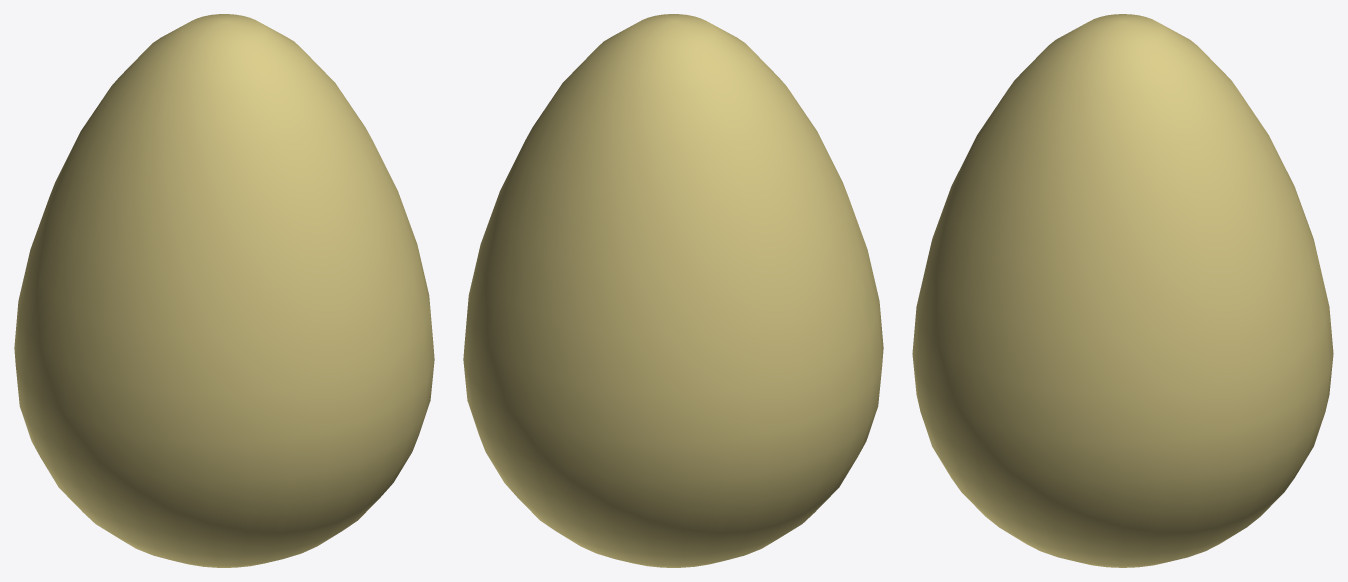
Rendered from badegg.glb.
3 renders of one model, left to right at view 1: azimuth 30°, elevation 25°; view 2: azimuth 150°, elevation 25°; view 3: azimuth 270°, elevation 25°, orthographic.
Parts seen in each view (by area): view 1: egg; view 2: egg; view 3: egg.
Part boxes in pixels (x1=…): egg: x1=14, y1=14, x2=434, y2=567; egg: x1=463, y1=14, x2=883, y2=567; egg: x1=912, y1=14, x2=1333, y2=567.
Bounding box in the file's own units: 0.4926 × 0.6803 × 0.4926.
